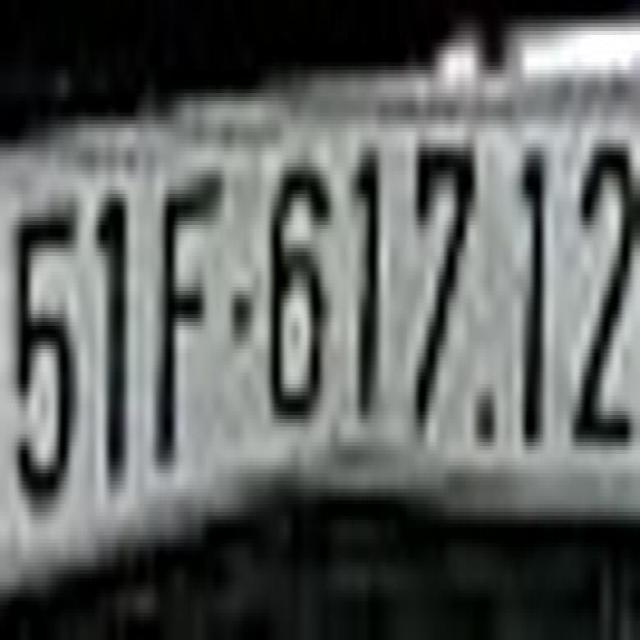1: (346, 132, 384, 427), (516, 124, 548, 450), (99, 182, 128, 493)
2: (572, 132, 635, 438)
5: (17, 198, 78, 504)
6: (270, 155, 326, 431)
7: (412, 132, 476, 438)
F: (159, 162, 227, 474)
